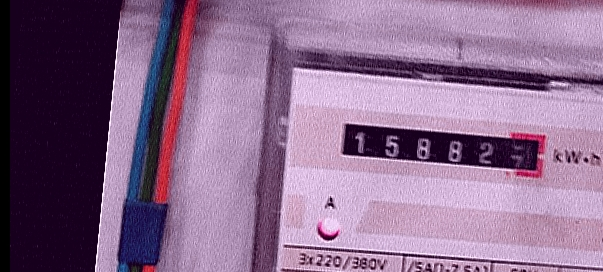1: (350, 130, 367, 156)
2: (476, 139, 494, 166)
5: (381, 133, 399, 159)
7: (507, 152, 522, 169)
8: (412, 136, 431, 161), (444, 137, 462, 163)
screen: (325, 108, 556, 189)
